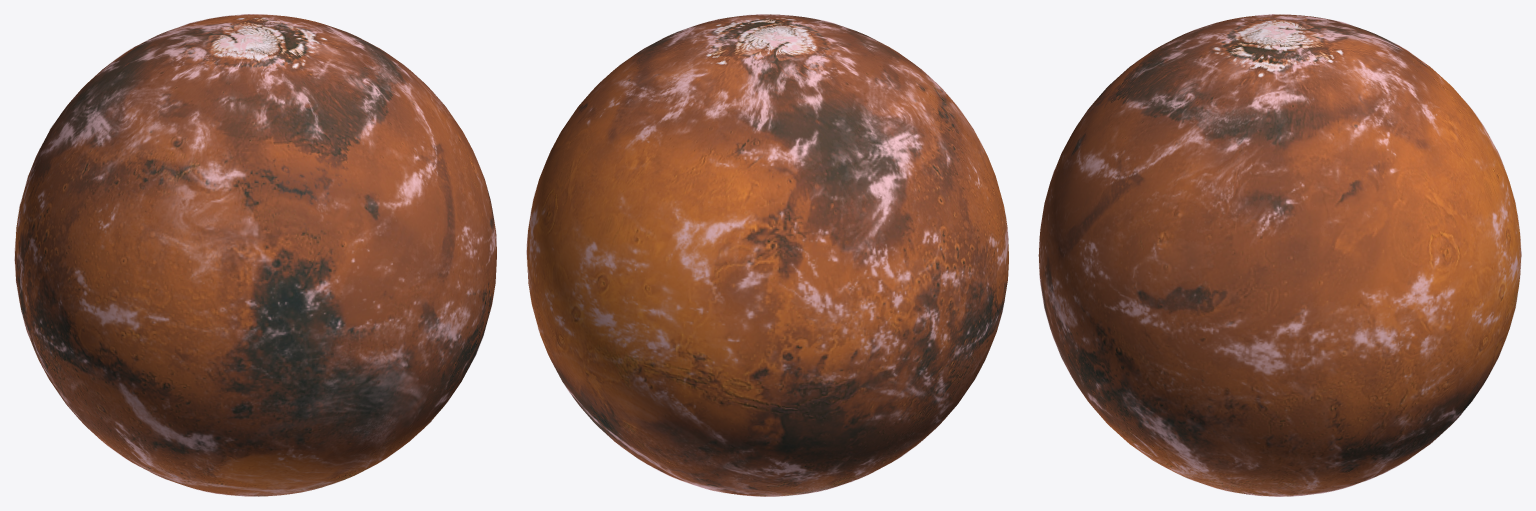
Rendered from mars-01.glb.
The picture shows the model from 3 angles, left to right: view 1: azimuth 30°, elevation 25°; view 2: azimuth 150°, elevation 25°; view 3: azimuth 270°, elevation 25°; orthographic projection.
Visible parts, largest first — view 1: Mars, Clouds; view 2: Mars, Clouds; view 3: Mars, Clouds.
Part boxes in pixels (box(x1,y1,x2,y2)): Mars: box(15, 14, 496, 496); Clouds: box(14, 14, 496, 496); Mars: box(527, 14, 1008, 496); Clouds: box(526, 14, 1008, 496); Mars: box(1038, 14, 1521, 496); Clouds: box(1039, 14, 1521, 496).
Size of the model in its own units: 4.88 by 4.88 by 4.88.
Materials: 2 (2 with a texture image).
